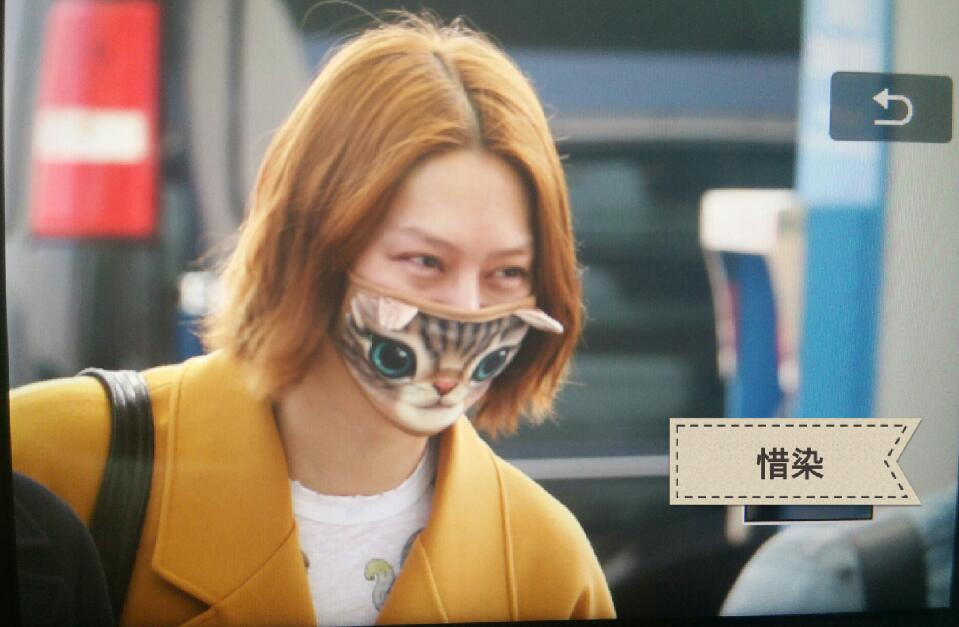OK: (335, 208, 554, 427)
